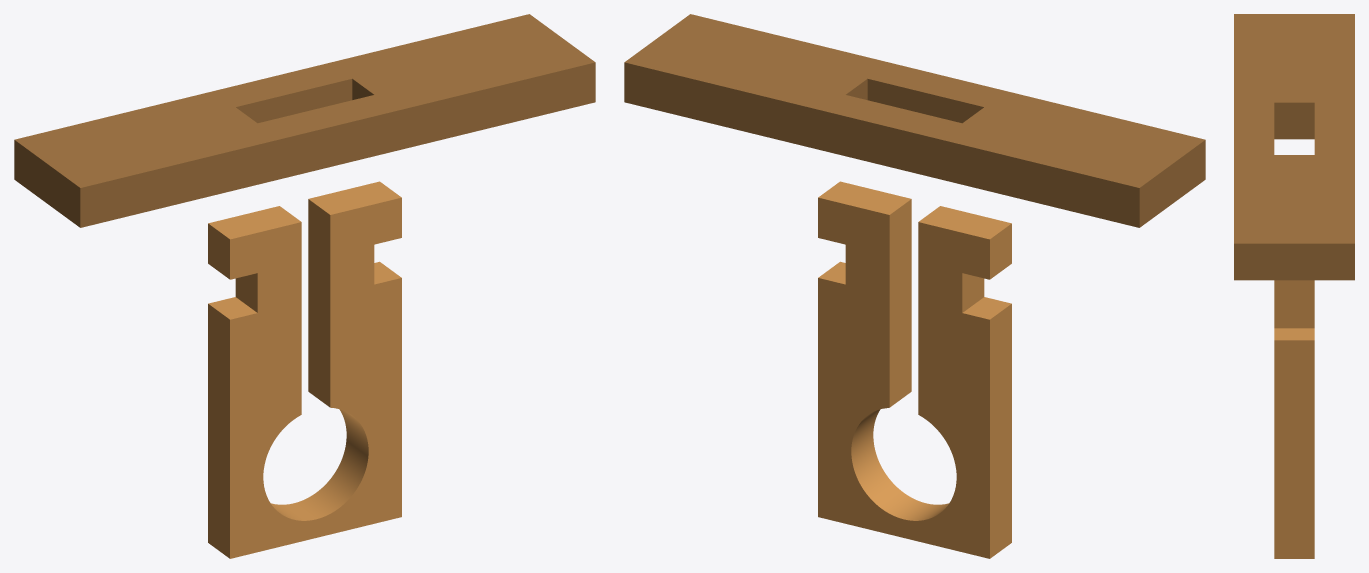
3 renders of one model, left to right at view 1: azimuth 30°, elevation 25°; view 2: azimuth 150°, elevation 25°; view 3: azimuth 270°, elevation 25°, orthographic. The views are drawn at different scales.
Bounding box in the file's own units: 1.74 × 1.39 × 0.3876.
